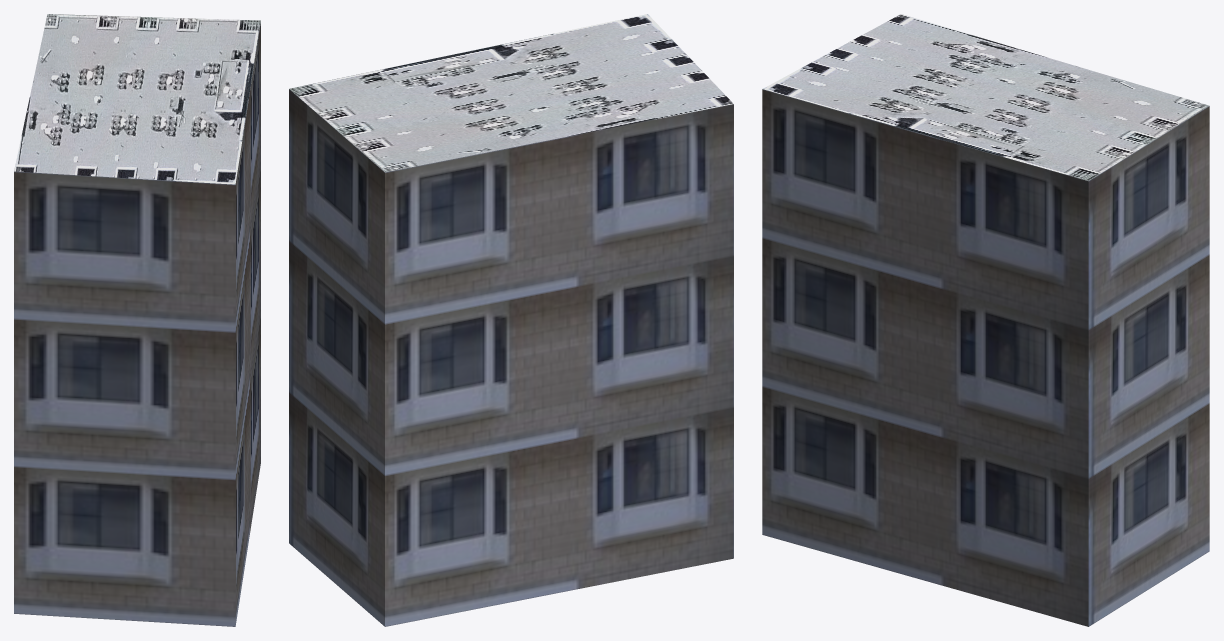
Rendered from ResTex__2697.fbx.
The picture shows the model from 3 angles, left to right: view 1: azimuth 30°, elevation 25°; view 2: azimuth 150°, elevation 25°; view 3: azimuth 270°, elevation 25°; orthographic projection. The views are drawn at different scales.
Visible parts, largest first — view 1: CityEngineMaterial_3_m, CityEngineMaterial_m; view 2: CityEngineMaterial_3_m, CityEngineMaterial_m; view 3: CityEngineMaterial_3_m, CityEngineMaterial_m.
Boxes of the visible parts, box(x1,y1,x2,y2) form: CityEngineMaterial_3_m: box(14, 22, 260, 626); CityEngineMaterial_m: box(14, 14, 260, 184); CityEngineMaterial_3_m: box(289, 89, 733, 626); CityEngineMaterial_m: box(289, 14, 733, 172); CityEngineMaterial_3_m: box(762, 89, 1209, 626); CityEngineMaterial_m: box(763, 14, 1208, 180).
Size of the model in its own units: 7.24 by 9 by 8.18.
2 materials, 2 textured.
